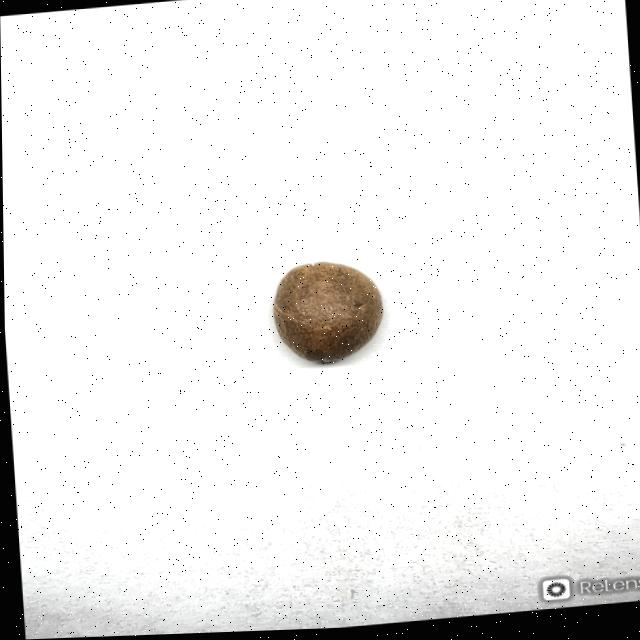Good bean: (267, 258, 386, 369)
